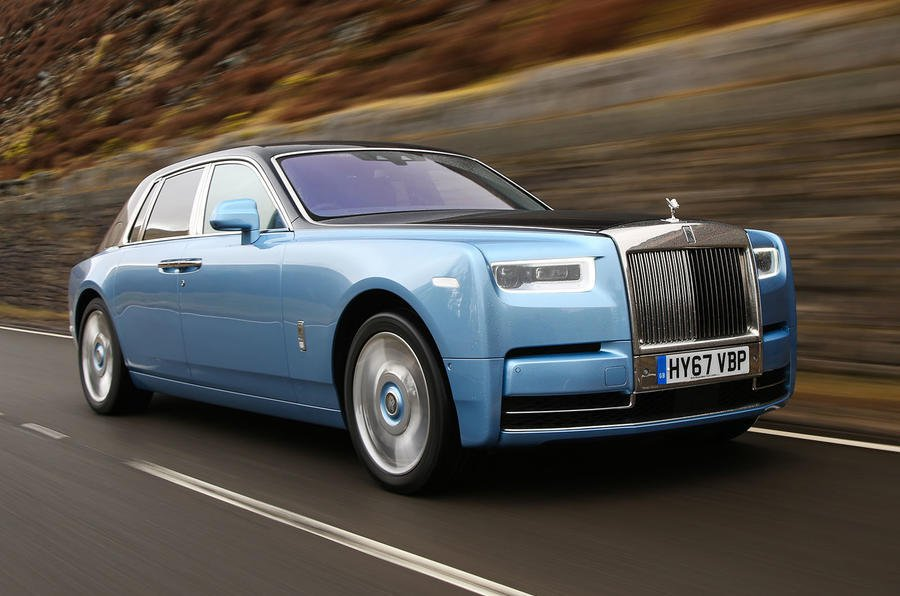car: (63, 138, 799, 492)
